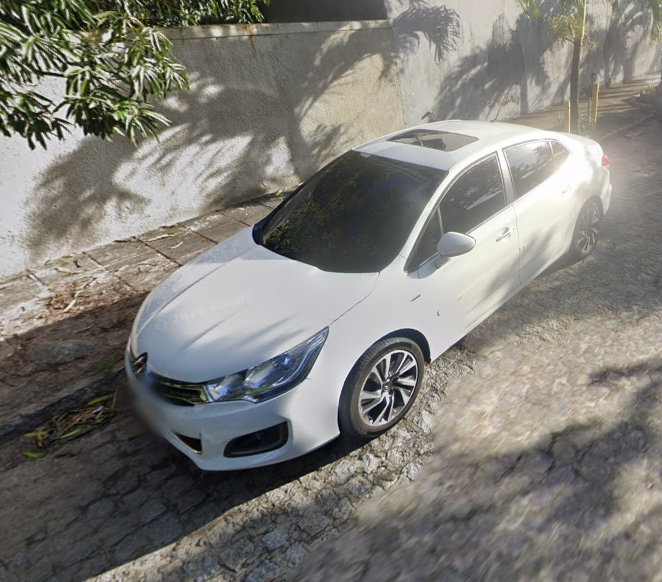car: (122, 115, 615, 477)
